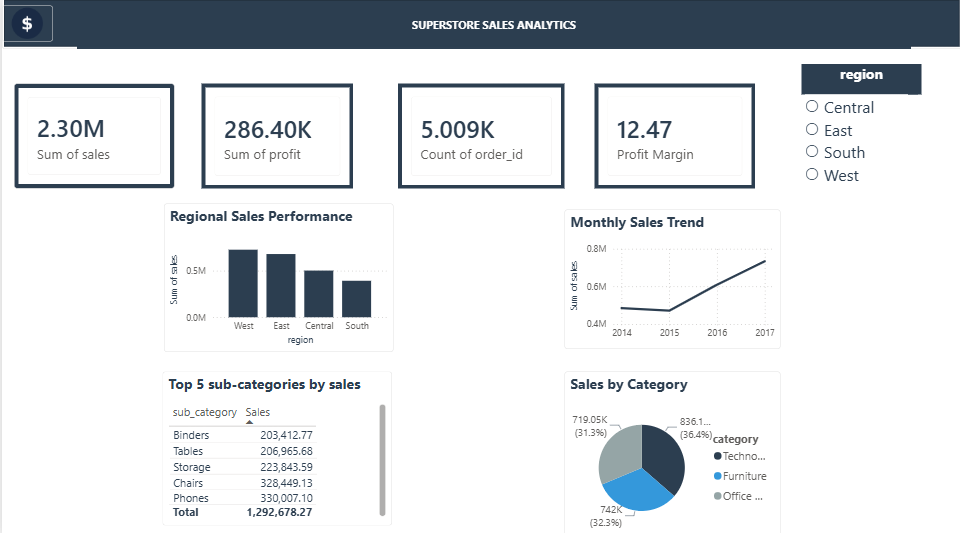

The dashboard page shown, as its layout file describes it:
{"tool":"powerbi","page":{"name":"Page 1","canvas":[1280,720],"ordinal":0},"visuals":[{"type":"cardVisual","fields":{"Data":["Sum(public orders.sales)"]},"box":[16,114,214,140],"z":0},{"type":"clusteredColumnChart","title":"Regional Sales Performance","fields":{"Category":["public orders.region"],"Y":["Sum(public orders.sales)"]},"box":[216,274,306,198],"z":1000},{"type":"lineChart","title":"Monthly Sales Trend","fields":{"Category":["public orders.order_date.Variation.Date Hierarchy.Year","public orders.order_date.Variation.Date Hierarchy.Quarter","public orders.order_date.Variation.Date Hierarchy.Month","public orders.order_date.Variation.Date Hierarchy.Day"],"Y":["Sum(public orders.sales)"]},"box":[750,282,288,186],"z":2000},{"type":"pieChart","title":"Sales by Category","fields":{"Category":["public orders.category"],"Y":["Sum(public orders.sales)"]},"box":[750,498,288,222],"z":3000},{"type":"cardVisual","fields":{"Data":["Sum(public orders.profit)"]},"box":[266,114,202,140],"z":4000},{"type":"cardVisual","fields":{"Data":["Count(public orders.order_id)"]},"box":[528,114,222,140],"z":5000},{"type":"shape","box":[0,0,1280,68],"z":6000},{"type":"image","box":[0,10,68,48],"z":7000},{"type":"textbox","box":[100,20,1112,48],"z":8000},{"type":"cardVisual","fields":{"Data":["public orders.Profit Margin"]},"box":[790,114,214,140],"z":9000},{"type":"listSlicer","fields":{"Values":["public orders.region"]},"box":[1066,88,160,166],"z":10000},{"type":"tableEx","title":"Top 5 sub-categories by sales","fields":{"Values":["public orders.sub_category","Sum(public orders.sales)"]},"box":[214,498,306,205],"z":10001}]}

Visuals, with their boxes in screenshot pixels (x1, y1, x2, y2), scaled from the page's 1280x720 canvas onto the 960x533 screenshot:
cardVisual - Sum(public orders.sales): [12, 84, 172, 188]
"Regional Sales Performance" clusteredColumnChart: [162, 203, 392, 349]
"Monthly Sales Trend" lineChart: [562, 209, 778, 346]
"Sales by Category" pieChart: [562, 369, 778, 532]
cardVisual - Sum(public orders.profit): [200, 84, 351, 188]
cardVisual - Count(public orders.order_id): [396, 84, 562, 188]
shape: [0, 0, 959, 50]
image: [0, 7, 51, 43]
textbox: [75, 15, 909, 50]
cardVisual - public orders.Profit Margin: [592, 84, 753, 188]
listSlicer - public orders.region: [800, 65, 920, 188]
"Top 5 sub-categories by sales" tableEx: [160, 369, 390, 520]
